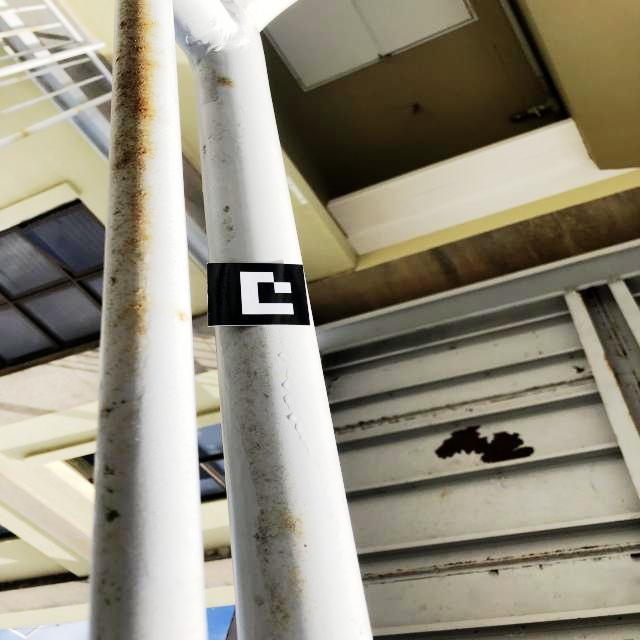Corrosion: (106, 0, 157, 322), (432, 426, 534, 463), (6, 26, 42, 35), (179, 312, 188, 321), (20, 129, 28, 137), (75, 107, 81, 114), (0, 9, 9, 12), (15, 7, 19, 11)
